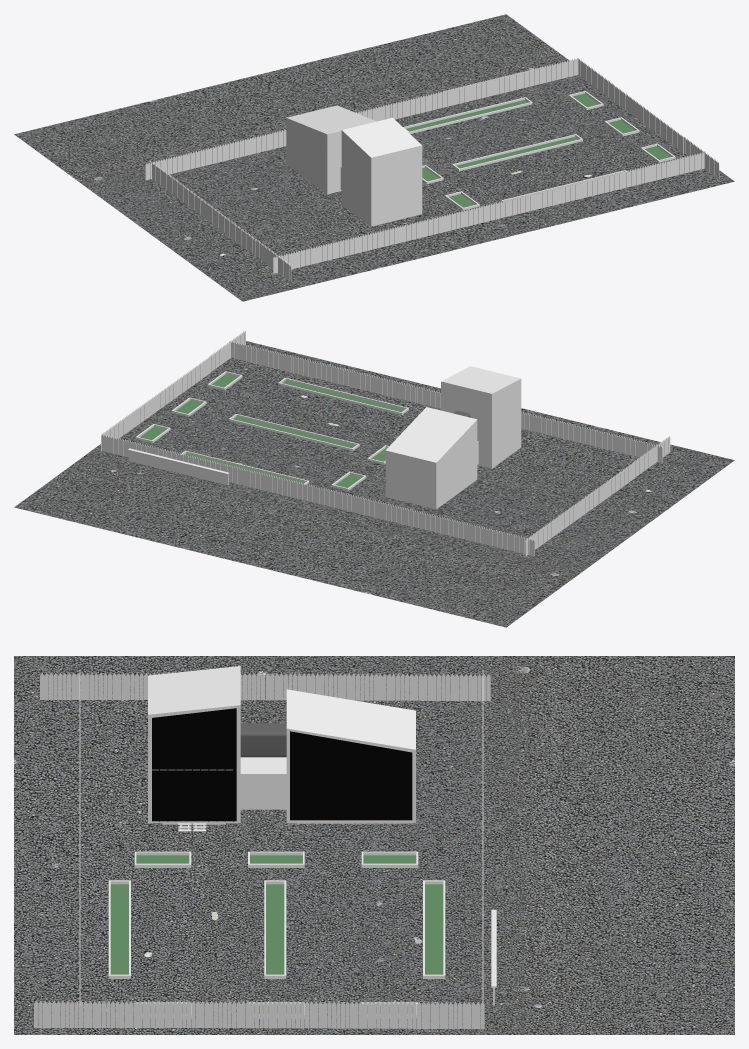
File: Modewrn___House.fbx
The picture shows the model from 3 angles, top to bottom: view 1: azimuth 30°, elevation 25°; view 2: azimuth 150°, elevation 25°; view 3: azimuth 270°, elevation 25°; orthographic projection. The views are drawn at different scales.
Parts seen in each view (by area): view 1: Street1, Build_Left, Build_Right, Out_P5, Out_P6, Wall_Wood_x0020__x0028_4_x0029_, Wall_Wood_x0020__x0028_10_x0029_, Wall_Wood_x0020__x0028_5_x0029_, Wall_Wood_x0020__x0028_9_x0029_, Wall_Wood_x0020__x0028_11_x0029_, Wall_Wood_x0020__x0028_2_x0029_, Wall_Wood_x0020__x0028_12_x0029_ (+13 smaller); view 2: Street1, Build_Right, Build_Left, Wall_Stone, Out_P1, Out_P5, Wall_Wood_x0020__x0028_9_x0029_, Wall_Wood_x0020__x0028_11_x0029_, Wall_Wood_x0020__x0028_3_x0029_, Wall_Wood, Wall_Wood_x0020__x0028_13_x0029_, Wall_Wood_x0020__x0028_1_x0029_ (+14 smaller); view 3: Street1, Window_Glass_Right, Window_Glass_Left, Build_Right, Build_Left, Wall_Wood_x0020__x0028_17_x0029_, Wall_Wood_x0020__x0028_15_x0029_, Wall_Wood_x0020__x0028_16_x0029_, Wall_Wood_x0020__x0028_18_x0029_, Wall_Wood_x0020__x0028_26_x0029_, Wall_Wood_x0020__x0028_23_x0029_, Wall_Wood_x0020__x0028_24_x0029_ (+11 smaller).
Part boxes in pixels (box(x1,y1,x2,y2)): Street1: box(14, 14, 734, 301); Build_Left: box(341, 117, 422, 226); Build_Right: box(286, 105, 376, 194); Out_P5: box(452, 134, 582, 171); Out_P6: box(403, 97, 532, 133); Wall_Wood_x0020__x0028_4_x0029_: box(454, 73, 516, 104); Wall_Wood_x0020__x0028_10_x0029_: box(458, 197, 520, 228); Wall_Wood_x0020__x0028_5_x0029_: box(516, 58, 578, 89); Wall_Wood_x0020__x0028_9_x0029_: box(582, 166, 644, 198); Wall_Wood_x0020__x0028_11_x0029_: box(520, 182, 582, 213); Wall_Wood_x0020__x0028_2_x0029_: box(392, 88, 454, 119); Wall_Wood_x0020__x0028_12_x0029_: box(396, 212, 458, 243); Street1: box(14, 341, 734, 627); Build_Right: box(385, 407, 477, 509); Build_Left: box(441, 366, 521, 468); Wall_Stone: box(128, 448, 229, 485); Out_P1: box(278, 377, 408, 414); Out_P5: box(229, 414, 359, 450); Wall_Wood_x0020__x0028_9_x0029_: box(291, 356, 353, 387); Wall_Wood_x0020__x0028_11_x0029_: box(353, 371, 415, 402); Wall_Wood_x0020__x0028_3_x0029_: box(287, 479, 349, 511); Wall_Wood: box(411, 509, 472, 541); Wall_Wood_x0020__x0028_13_x0029_: box(538, 416, 600, 447); Wall_Wood_x0020__x0028_1_x0029_: box(349, 494, 410, 526); Street1: box(14, 656, 734, 1034); Window_Glass_Right: box(290, 731, 412, 820); Window_Glass_Left: box(152, 708, 236, 821); Build_Right: box(286, 689, 415, 823); Build_Left: box(148, 666, 240, 824); Wall_Wood_x0020__x0028_17_x0029_: box(259, 1001, 371, 1028); Wall_Wood_x0020__x0028_15_x0029_: box(372, 1002, 484, 1028); Wall_Wood_x0020__x0028_16_x0029_: box(146, 1001, 258, 1028); Wall_Wood_x0020__x0028_18_x0029_: box(34, 1001, 146, 1028); Wall_Wood_x0020__x0028_26_x0029_: box(378, 673, 490, 700); Wall_Wood_x0020__x0028_23_x0029_: box(40, 673, 151, 699); Wall_Wood_x0020__x0028_24_x0029_: box(265, 673, 377, 700).
Size of the model in its own units: 8860 by 1436 by 7125.
